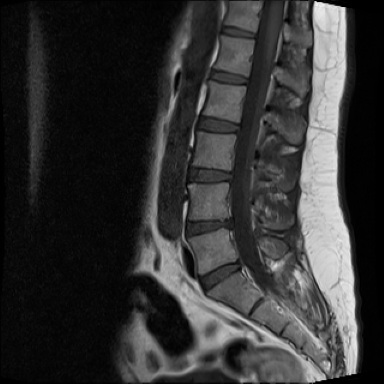Lumbar Disc Bulge (LDB): (195, 259, 248, 297), (182, 212, 237, 241)
Normal IVD: (194, 113, 243, 136), (183, 166, 235, 186), (209, 67, 252, 88), (217, 24, 258, 43)
Spinal Stenosis (SS): (221, 214, 237, 234), (231, 255, 245, 277)
